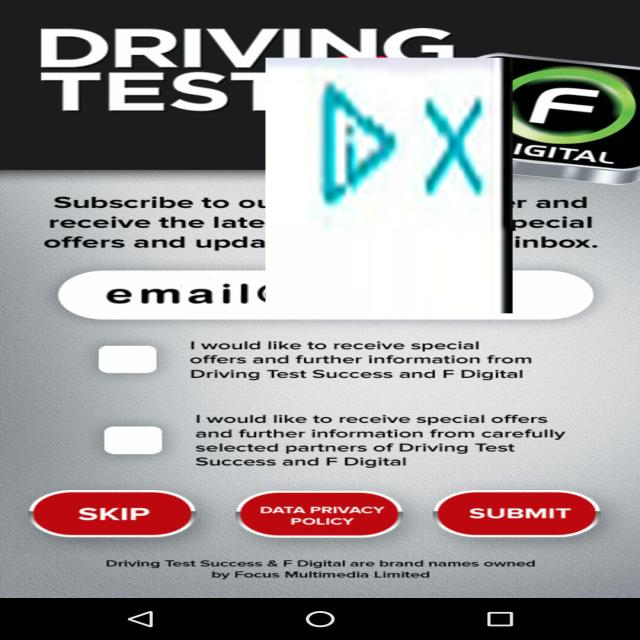sneaking: (266, 58, 512, 313)
